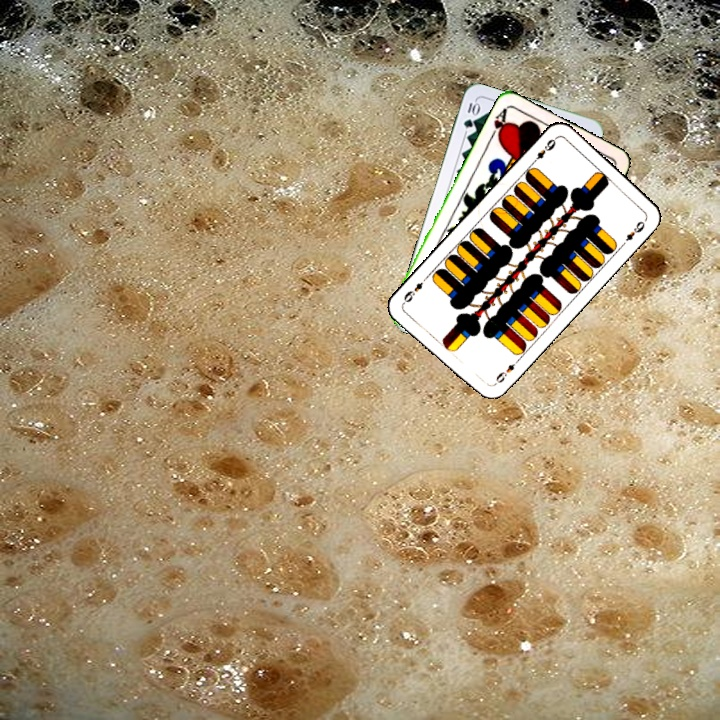E9: (489, 356, 521, 388), (528, 134, 559, 167)
G10: (459, 97, 481, 131)
HA: (485, 104, 511, 143)
